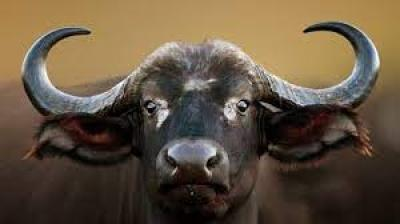buffalo: (0, 21, 379, 223)
